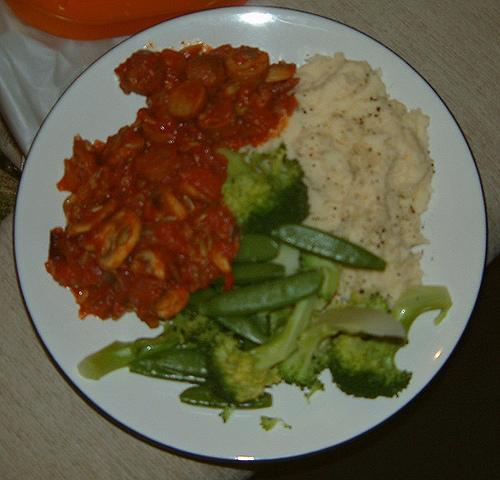broccoli: (326, 286, 452, 400), (207, 300, 314, 402), (277, 308, 407, 390), (76, 308, 210, 381), (219, 142, 308, 234), (296, 250, 343, 314)
green bean: (198, 271, 324, 314), (269, 224, 386, 270), (180, 386, 272, 409), (137, 350, 209, 377), (211, 314, 268, 344), (130, 364, 207, 384), (232, 261, 285, 286), (236, 233, 278, 260)
